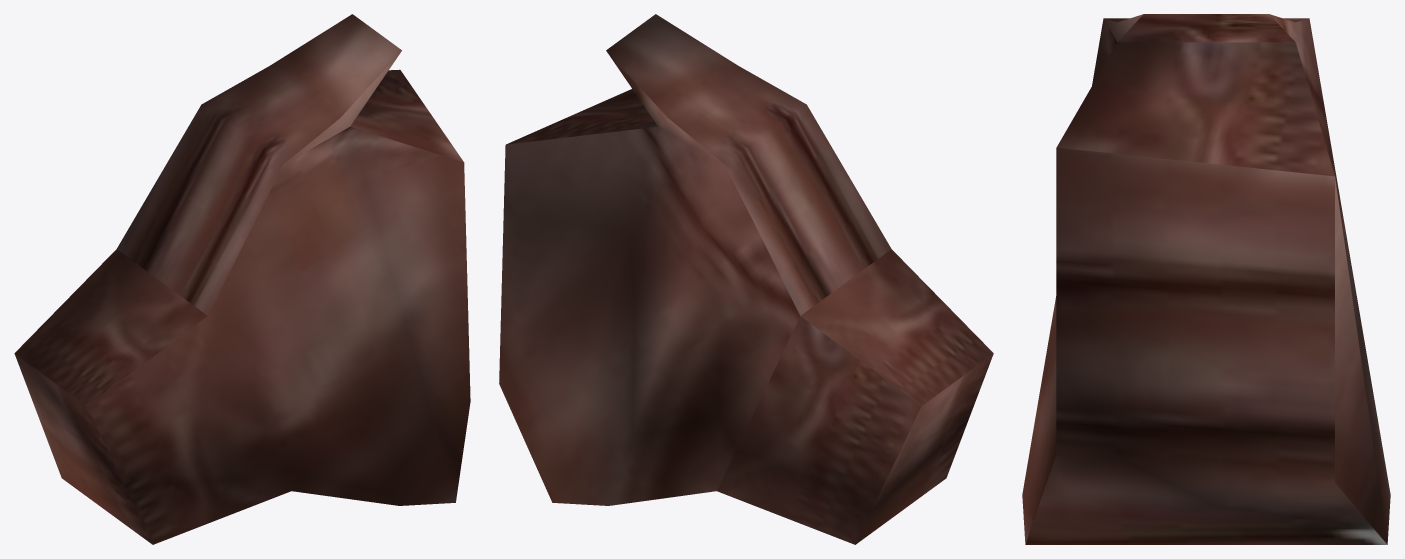
Rendered from fist.glb.
The picture shows the model from 3 angles, left to right: view 1: azimuth 30°, elevation 25°; view 2: azimuth 150°, elevation 25°; view 3: azimuth 270°, elevation 25°; orthographic projection. The views are drawn at different scales.
Visible parts, largest first — view 1: Cube; view 2: Cube; view 3: Cube.
Part boxes in pixels (x1,y1,x2,y2): Cube: (14,14,470,544); Cube: (499,14,993,544); Cube: (1022,14,1390,544).
Bounding box in the file's own units: 1.45 × 1.43 × 0.9042.
1 material, 1 textured.
